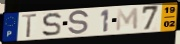1: (100, 9, 110, 33)
7: (141, 5, 160, 32)
M: (115, 7, 139, 33)
S: (67, 9, 90, 37), (41, 12, 63, 38)
T: (20, 13, 39, 39)
